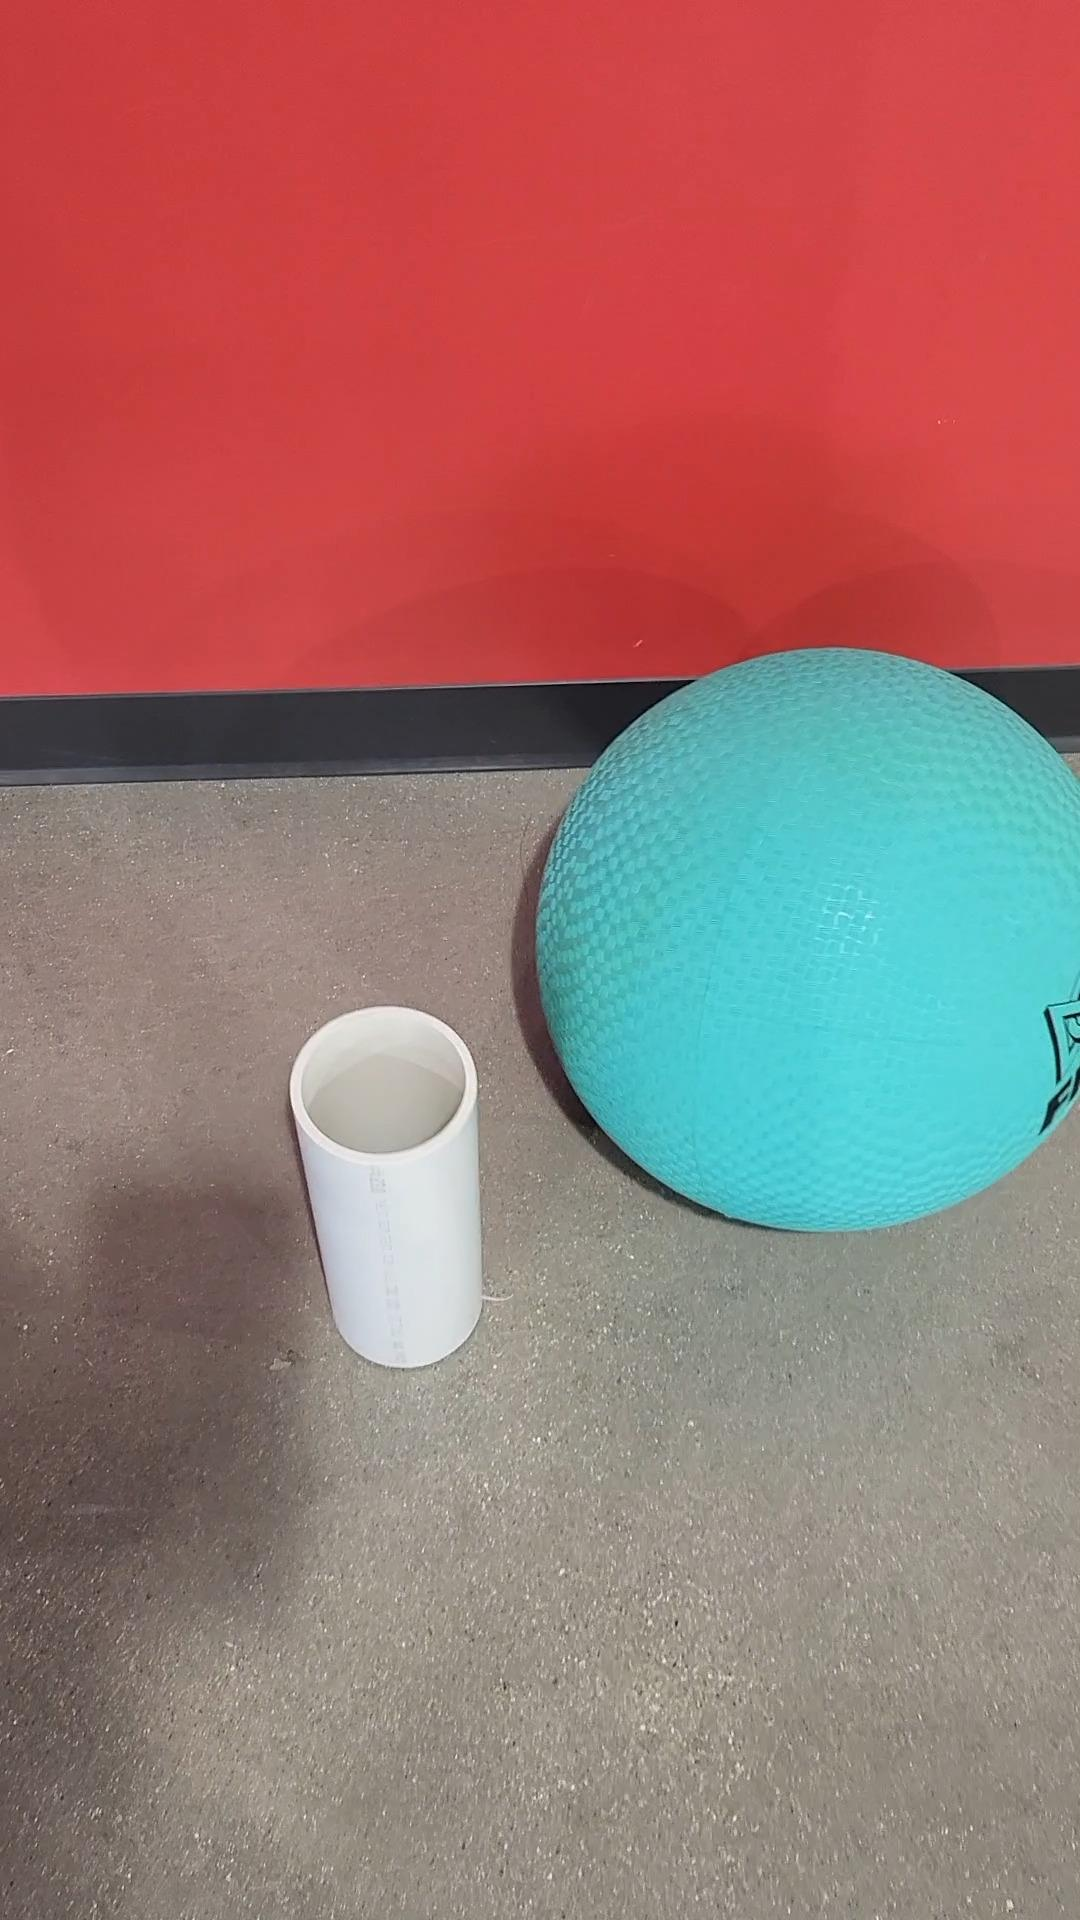algae: (529, 642, 1079, 1236)
coral: (285, 1001, 487, 1371)
